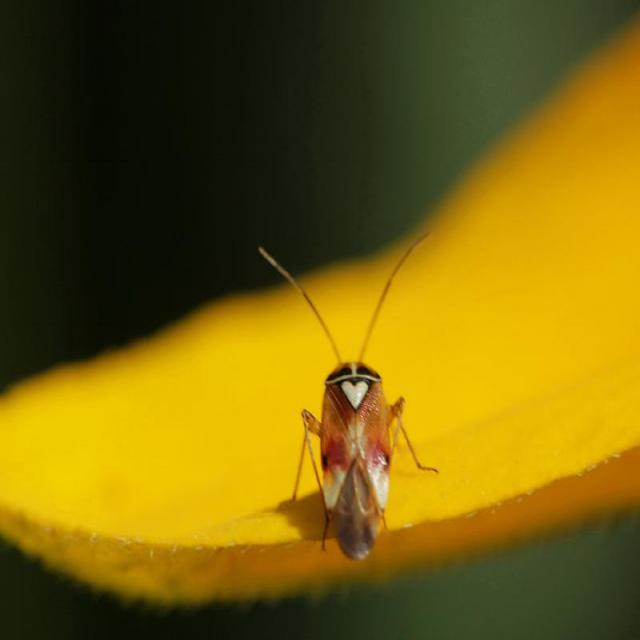Miridae-Adult-: (250, 237, 454, 566)
